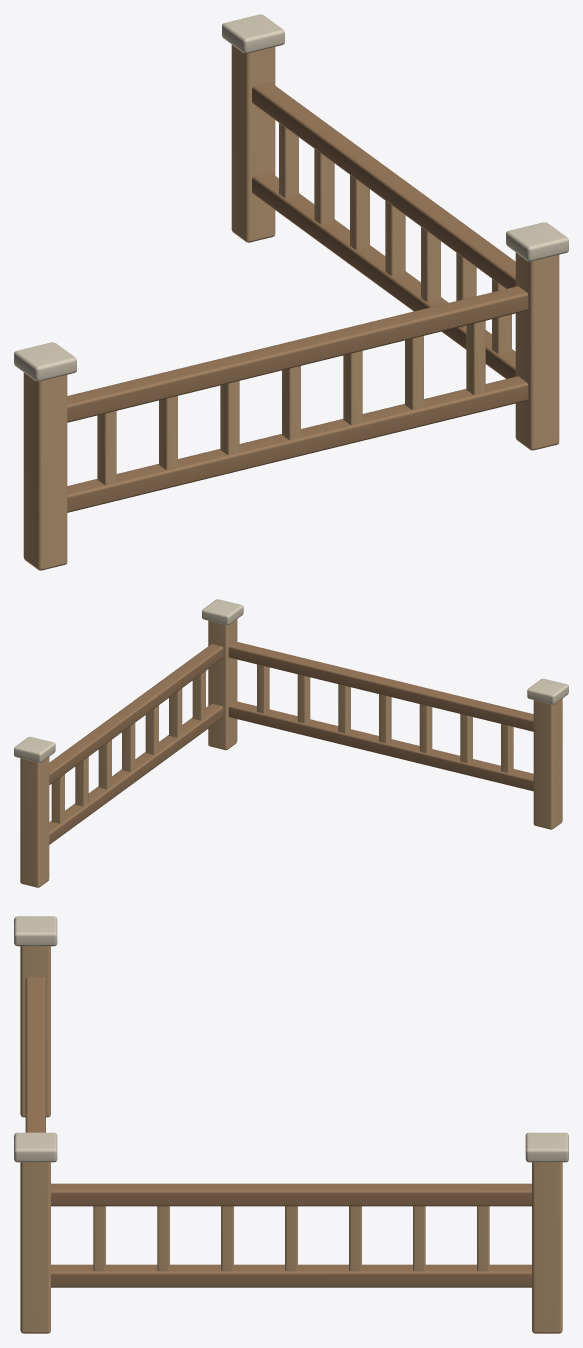
Rendered from SM_Fence_Corner_4m.fbx.
3 views of the same model, one above another, from view 1: azimuth 30°, elevation 25°; view 2: azimuth 150°, elevation 25°; view 3: azimuth 270°, elevation 25° (orthographic). The views are drawn at different scales.
Parts seen in each view (by area): view 1: SM_Fence_Corner_4m; view 2: SM_Fence_Corner_4m; view 3: SM_Fence_Corner_4m.
Part boxes in pixels (box(x1,y1,x2,y2)): SM_Fence_Corner_4m: box(14, 14, 568, 570); SM_Fence_Corner_4m: box(14, 599, 568, 887); SM_Fence_Corner_4m: box(14, 916, 568, 1333).
Bounding box in the file's own units: 4.34 × 1.62 × 4.34.
